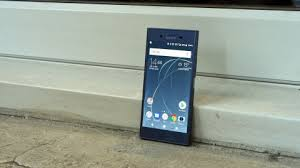sony: (136, 22, 203, 148)
